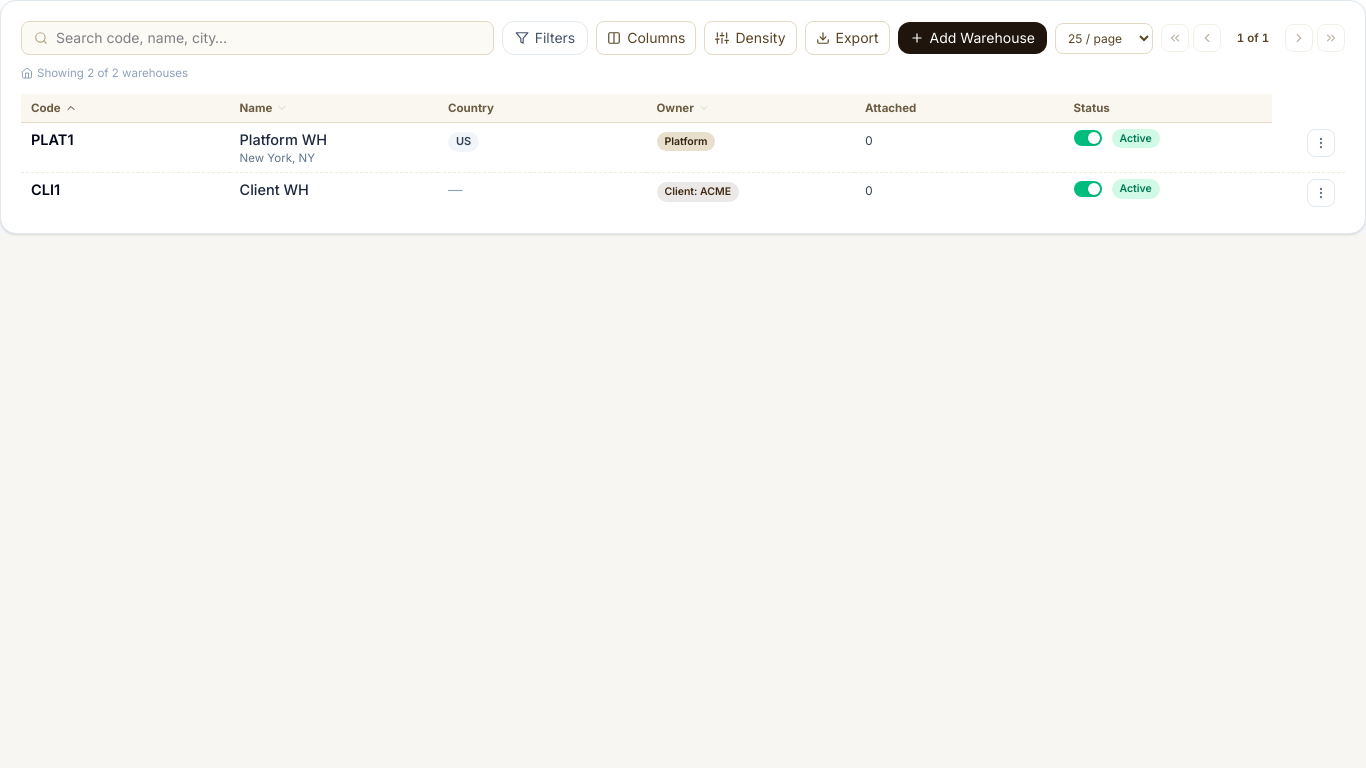
Scenario: WarehousesPage · row actions · positive › Edit action opens the WarehouseEditorModal hydrated from the row
The width and height of the screenshot is (1366, 768).
Click the button named "Row actions" in the row of "PLAT1". click: click(1321, 143)
box: [1307,129,1335,157]
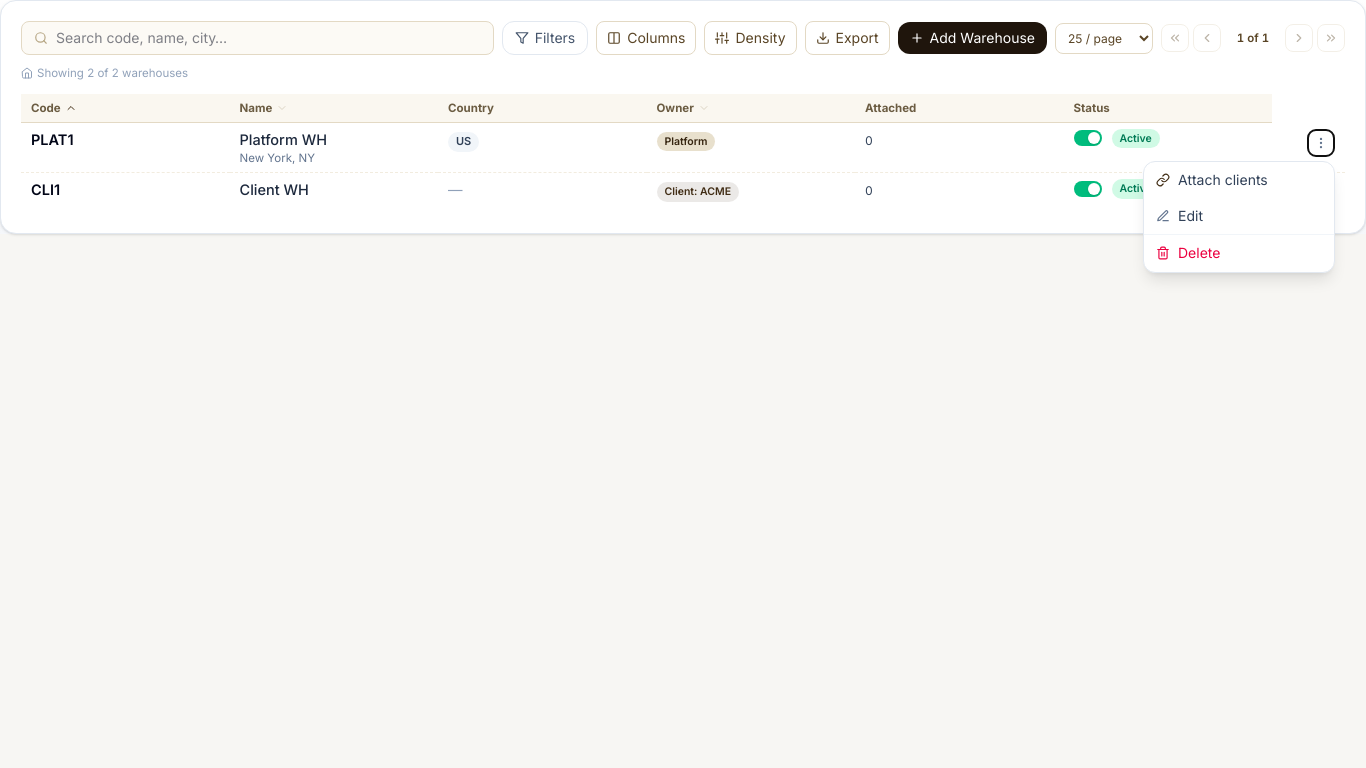
Click the menu item "Edit". click: click(1239, 216)
box: [1144,198,1334,234]
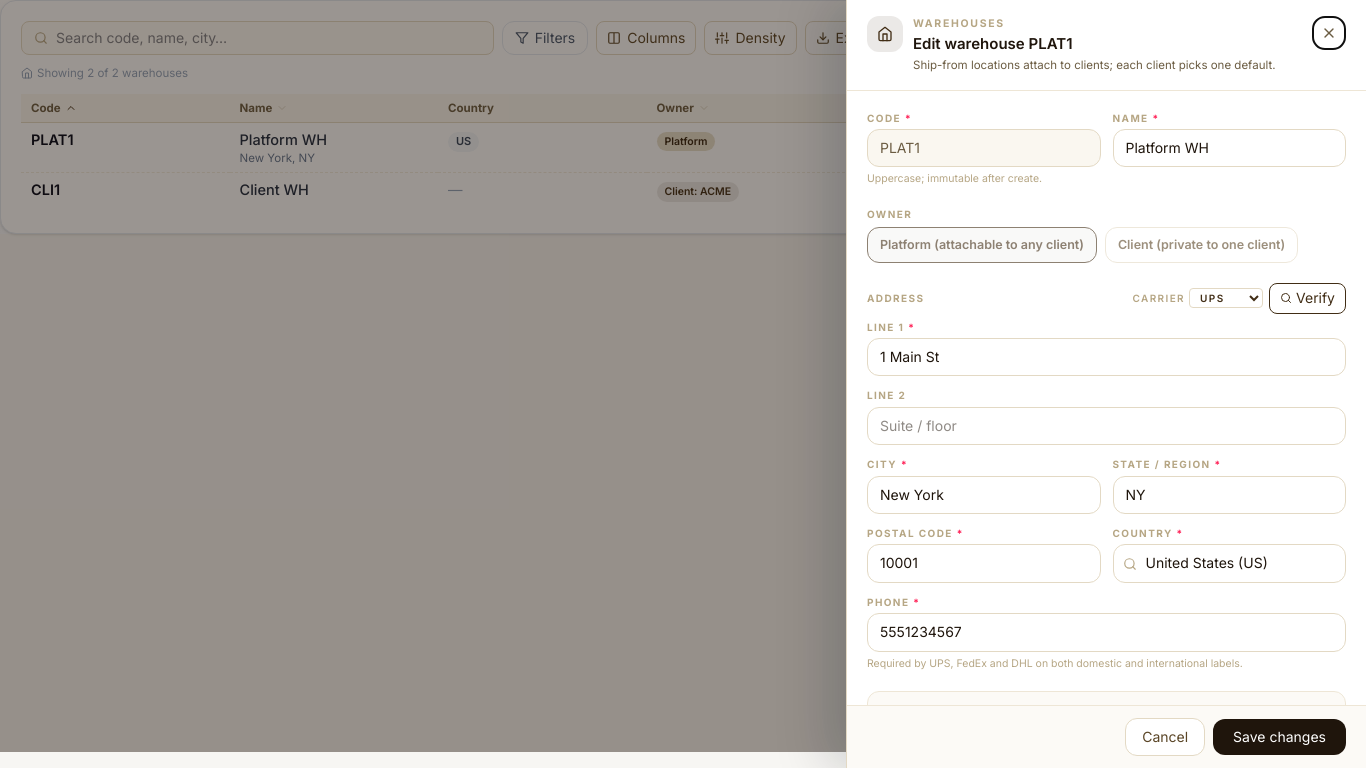
Result: the dialog "Edit warehouse PLAT1" is shown at [846,0,1365,767]
